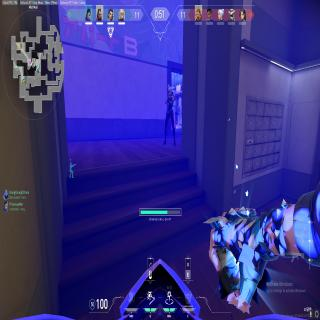ENEMY-BODY: (163, 83, 177, 142)
ENEMY-HEAD: (168, 84, 172, 94)
